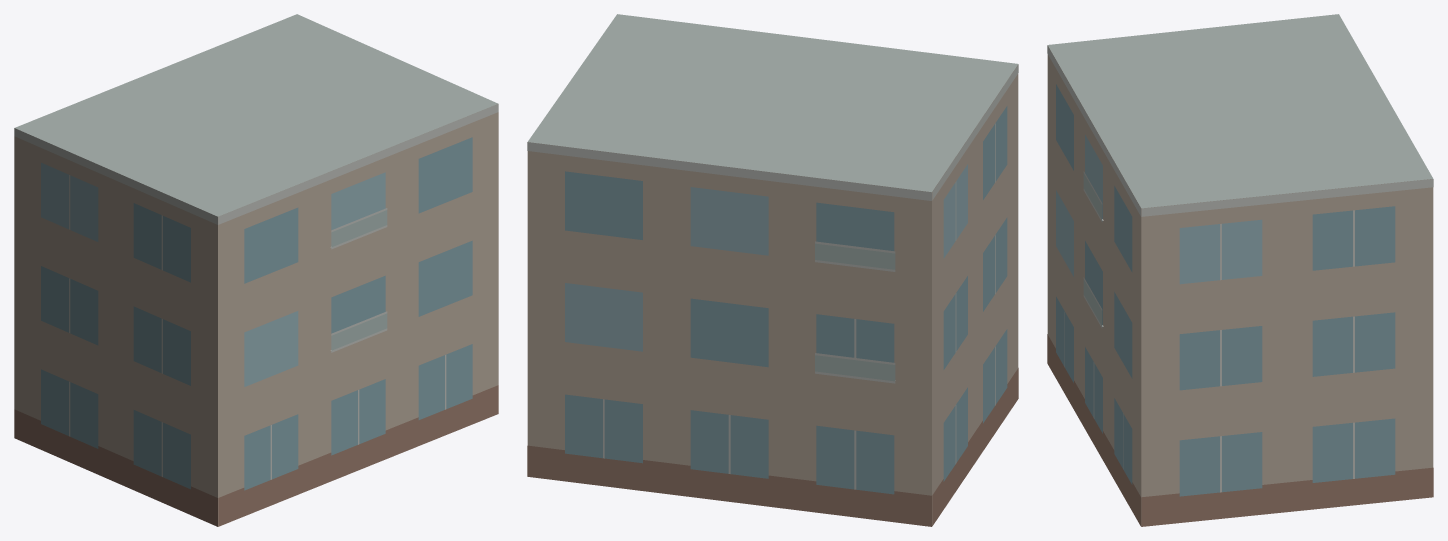
File: survey-upis-32547578.glb
3 views of the same model, side by side, from view 1: azimuth 30°, elevation 25°; view 2: azimuth 150°, elevation 25°; view 3: azimuth 270°, elevation 25° (orthographic). The views are drawn at different scales.
Parts seen in each view (by area): view 1: survey-upis-32547578.tmp; view 2: survey-upis-32547578.tmp; view 3: survey-upis-32547578.tmp.
Part boxes in pixels (left/top/right/bottom): survey-upis-32547578.tmp: left=14, top=14, right=498, bottom=526; survey-upis-32547578.tmp: left=527, top=14, right=1018, bottom=526; survey-upis-32547578.tmp: left=1047, top=14, right=1433, bottom=526.
Bounding box in the file's own units: 11.99 × 9.15 × 10.06.
